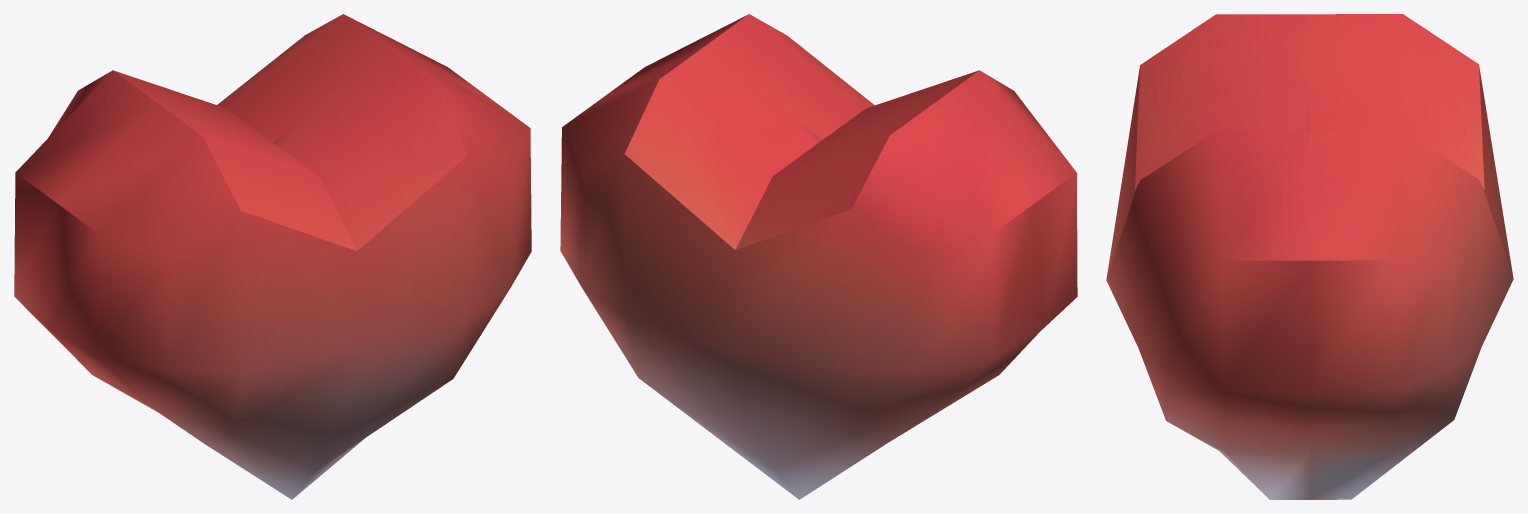
The model's file is heart.fbx.
The picture shows the model from 3 angles, left to right: view 1: azimuth 30°, elevation 25°; view 2: azimuth 150°, elevation 25°; view 3: azimuth 270°, elevation 25°; orthographic projection. The views are drawn at different scales.
Parts seen in each view (by area): view 1: heart; view 2: heart; view 3: heart.
Part boxes in pixels (x1,y1,x2,y2): heart: (14, 14, 531, 499); heart: (560, 14, 1077, 499); heart: (1106, 14, 1513, 499).
Size of the model in its own units: 161 by 141 by 121.
1 material, 1 textured.
